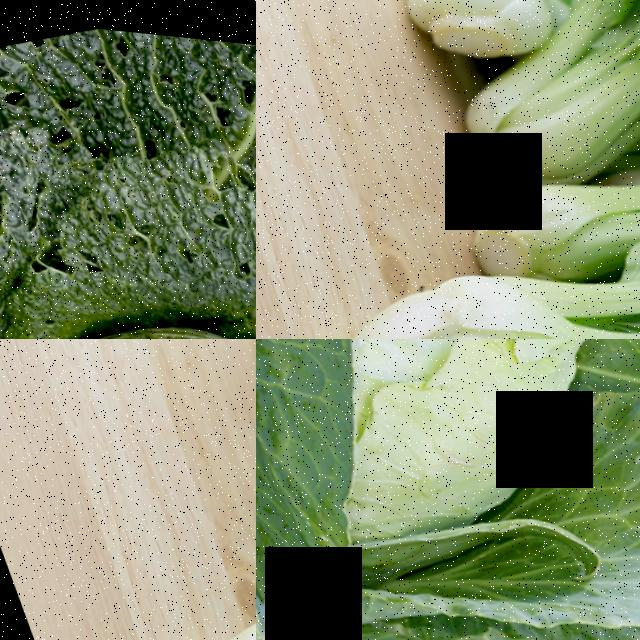bok choy: (438, 105, 640, 301), (445, 4, 640, 181), (345, 229, 640, 339), (367, 0, 589, 54)
cabbage: (256, 339, 640, 638), (0, 137, 256, 339)
